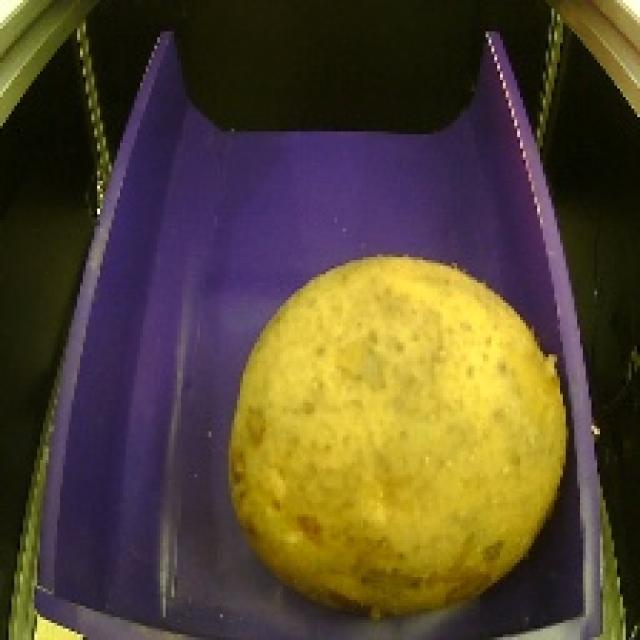full_potato: (217, 240, 584, 630)
